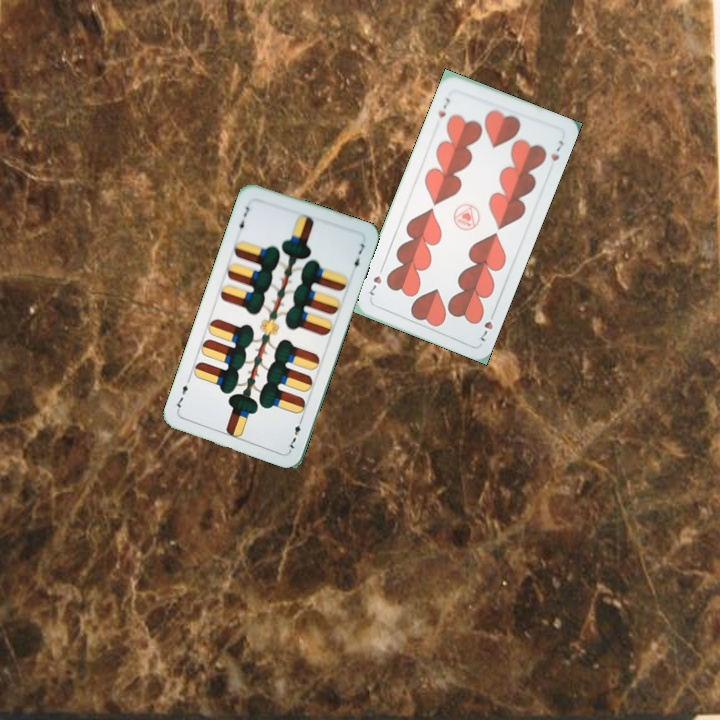E7: (283, 414, 305, 453), (233, 203, 252, 235)
H7: (475, 307, 498, 344), (434, 94, 453, 120)
